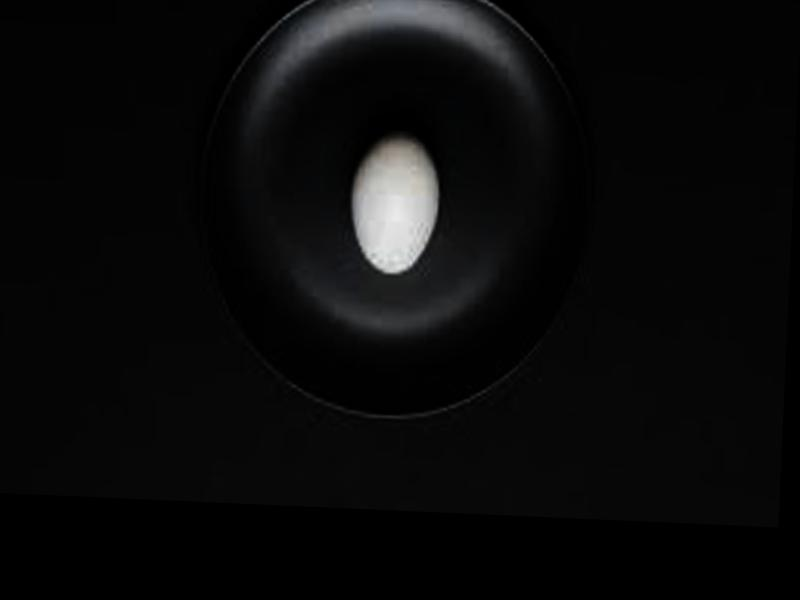Eggs: (346, 130, 442, 275)
